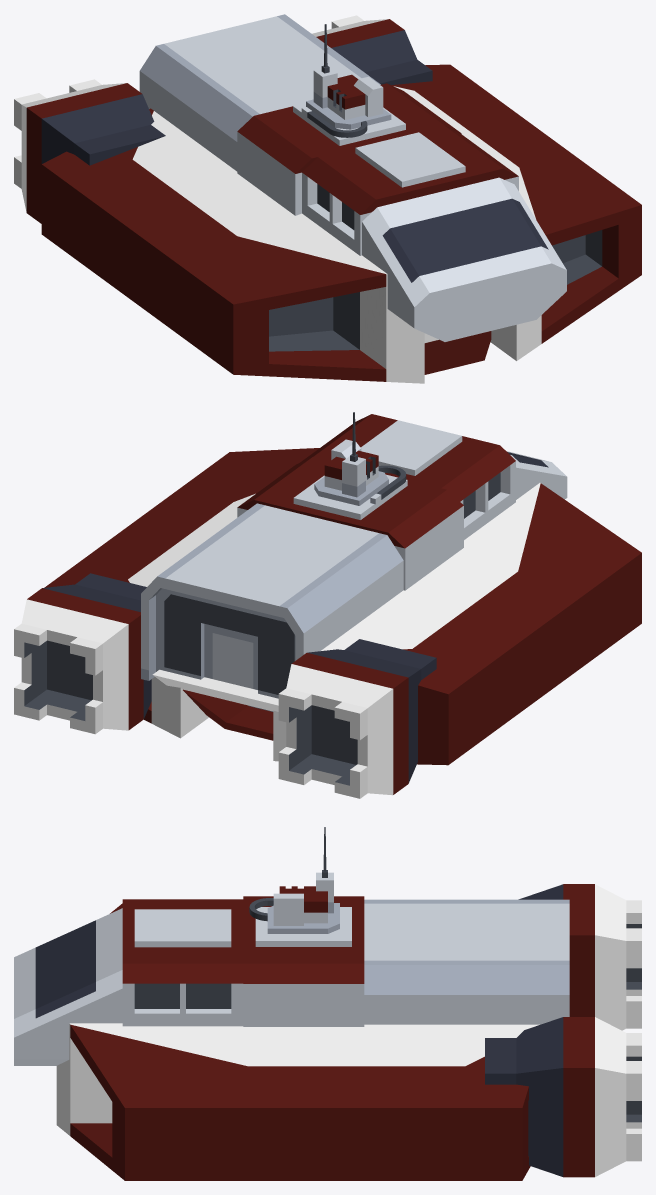
The model's file is cargo_leger_3.glb.
3 views of the same model, one above another, from view 1: azimuth 30°, elevation 25°; view 2: azimuth 150°, elevation 25°; view 3: azimuth 270°, elevation 25° (orthographic). The views are drawn at different scales.
Visible parts, largest first — view 1: mergedBlocks(Clone); view 2: mergedBlocks(Clone); view 3: mergedBlocks(Clone).
Part boxes in pixels (x1,y1,x2,y2): mergedBlocks(Clone): (14,14,641,383); mergedBlocks(Clone): (14,412,641,798); mergedBlocks(Clone): (14,827,641,1180).
Bounding box in the file's own units: 4.05 × 2.59 × 5.2.
1 material, 1 textured.
